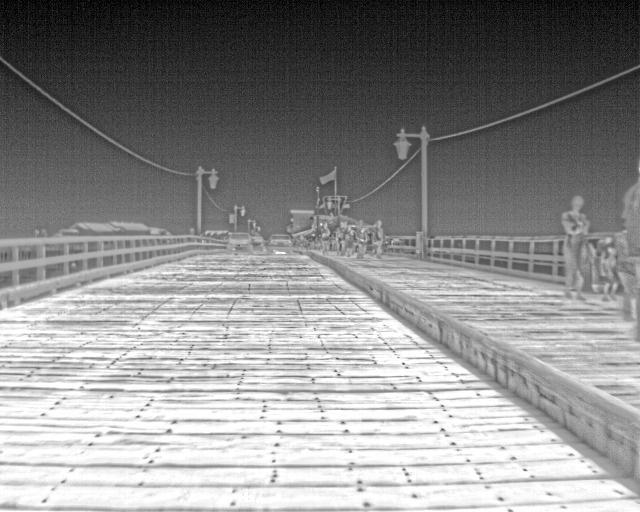bicycle: (229, 233, 252, 254), (269, 233, 293, 253), (250, 234, 265, 252)
empty: (561, 194, 588, 301), (617, 179, 637, 315), (600, 237, 620, 300), (370, 218, 385, 256), (336, 221, 351, 254), (354, 222, 368, 257), (317, 221, 332, 253)
